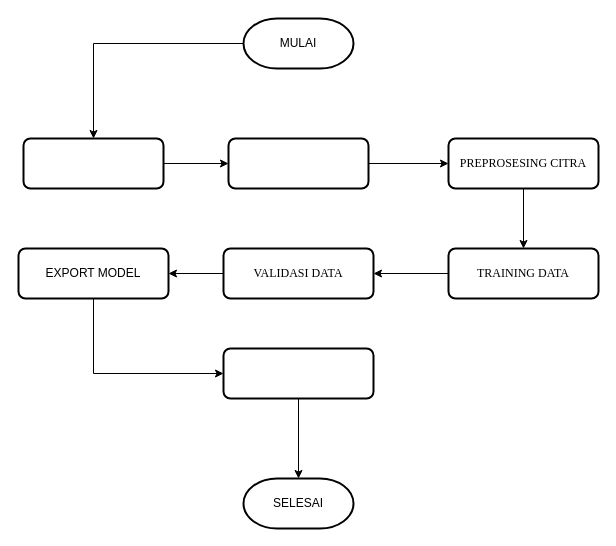
This 616x546 diagram has some shape labels left out. Here are the shapes that lost their labels. From the top down, the centre of each, then its label:
(x=93, y=163): AKUISISI CITRA
(x=298, y=163): LABELING DATA
(x=298, y=373): HASIL MODEL
